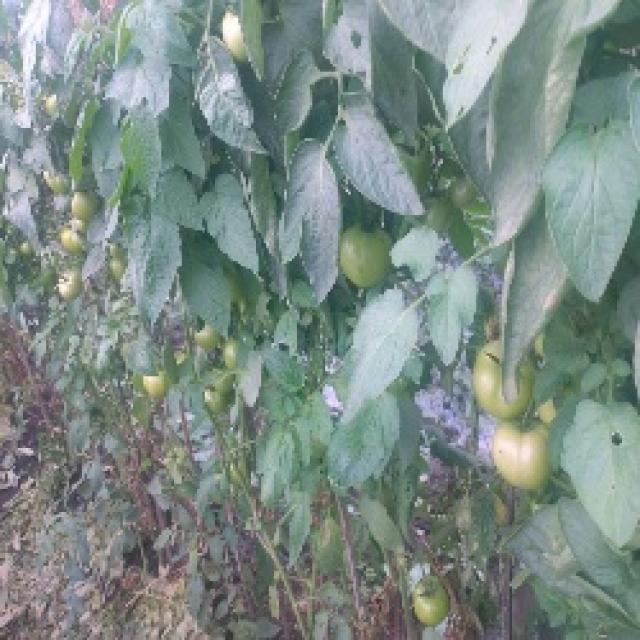tomato: (489, 416, 558, 491), (330, 219, 397, 295), (472, 346, 532, 420), (409, 574, 451, 631), (421, 176, 457, 235), (218, 12, 245, 66), (59, 213, 87, 254), (45, 271, 78, 305), (74, 190, 103, 224), (192, 324, 224, 354), (146, 374, 175, 402), (202, 393, 232, 419), (105, 249, 124, 281), (223, 340, 243, 368), (51, 174, 72, 197), (18, 241, 36, 259)
